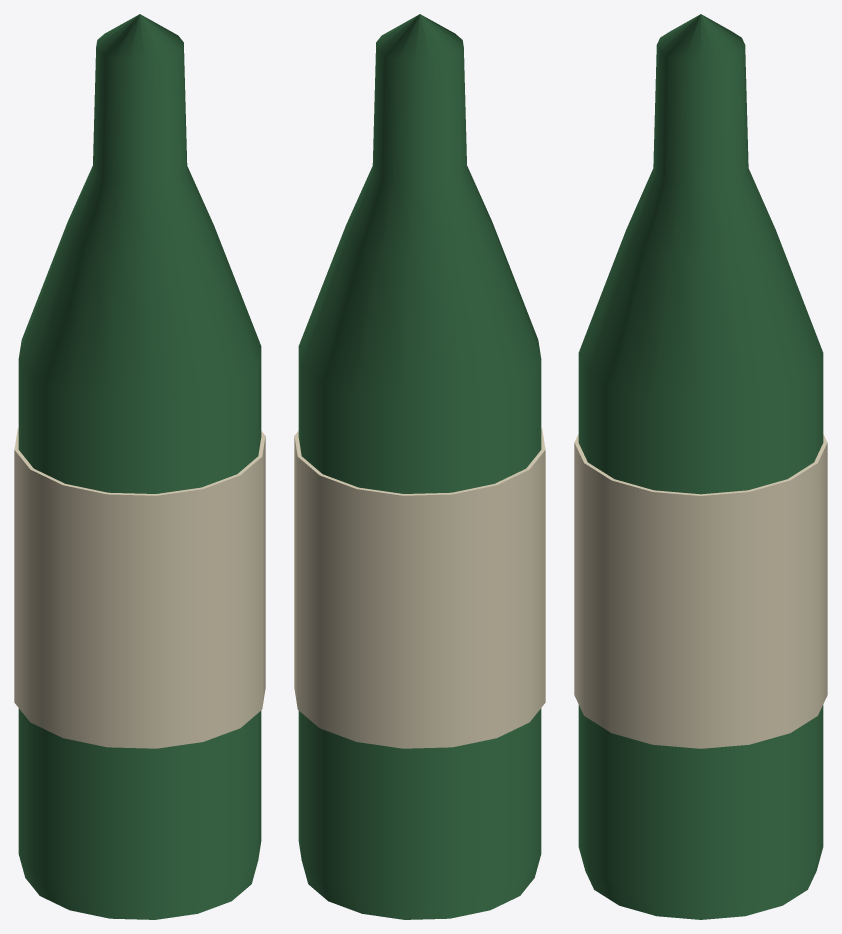
The model's file is bottle.glb.
3 renders of one model, left to right at view 1: azimuth 30°, elevation 25°; view 2: azimuth 150°, elevation 25°; view 3: azimuth 270°, elevation 25°, orthographic.
Visible parts, largest first — view 1: bottle; view 2: bottle; view 3: bottle.
Boxes of the visible parts, <box> form: bottle: <box>14,14,265,919</box>; bottle: <box>294,14,545,919</box>; bottle: <box>574,14,827,919</box>.
Size of the model in its own units: 0.0744 by 0.28 by 0.0744.
